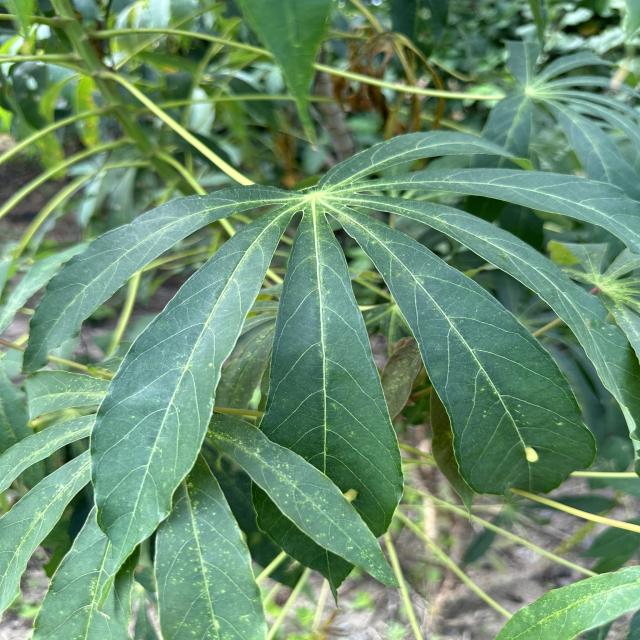Mosca: (328, 474, 364, 523), (512, 434, 544, 479)
